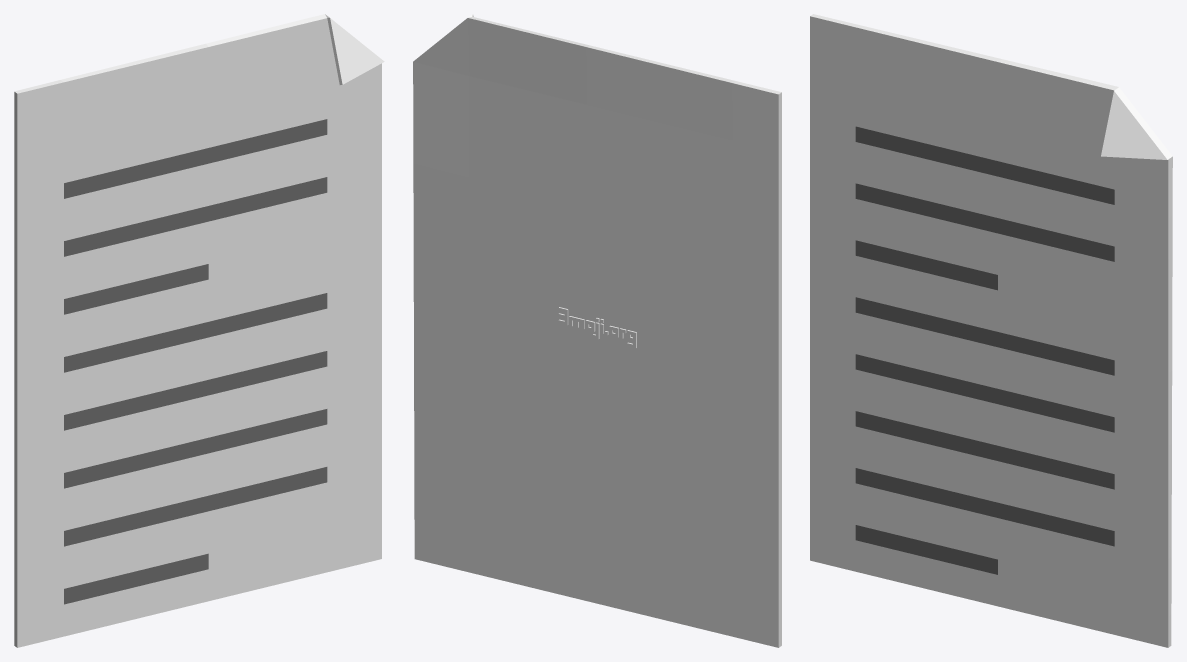
File: page_facing_up.fbx
3 renders of one model, left to right at view 1: azimuth 30°, elevation 25°; view 2: azimuth 150°, elevation 25°; view 3: azimuth 330°, elevation 25°, orthographic.
Parts seen in each view (by area): view 1: Plane.323; view 2: Plane.323; view 3: Plane.323.
Part boxes in pixels (x1=…): Plane.323: x1=14, y1=14, x2=384, y2=647; Plane.323: x1=413, y1=14, x2=781, y2=647; Plane.323: x1=810, y1=14, x2=1172, y2=647.
Size of the model in its own units: 164 by 238 by 14.49.
1 material, 1 textured.
